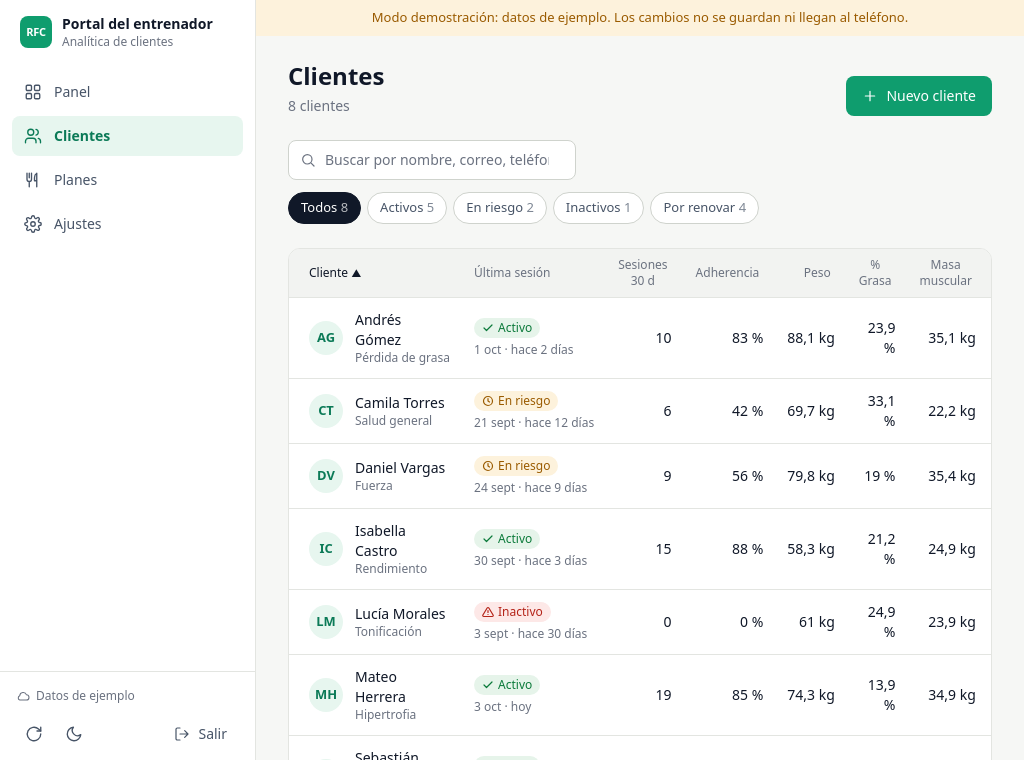
it: portal en modo demo (sin Supabase configurado) › lista, filtra y crea un cliente (queda pendiente para el teléfono)
Expected: the heading "Clientes" is shown, [288, 60, 384, 92]
Click the button "Inactivos 1" at (599, 208), box [553, 192, 644, 224]
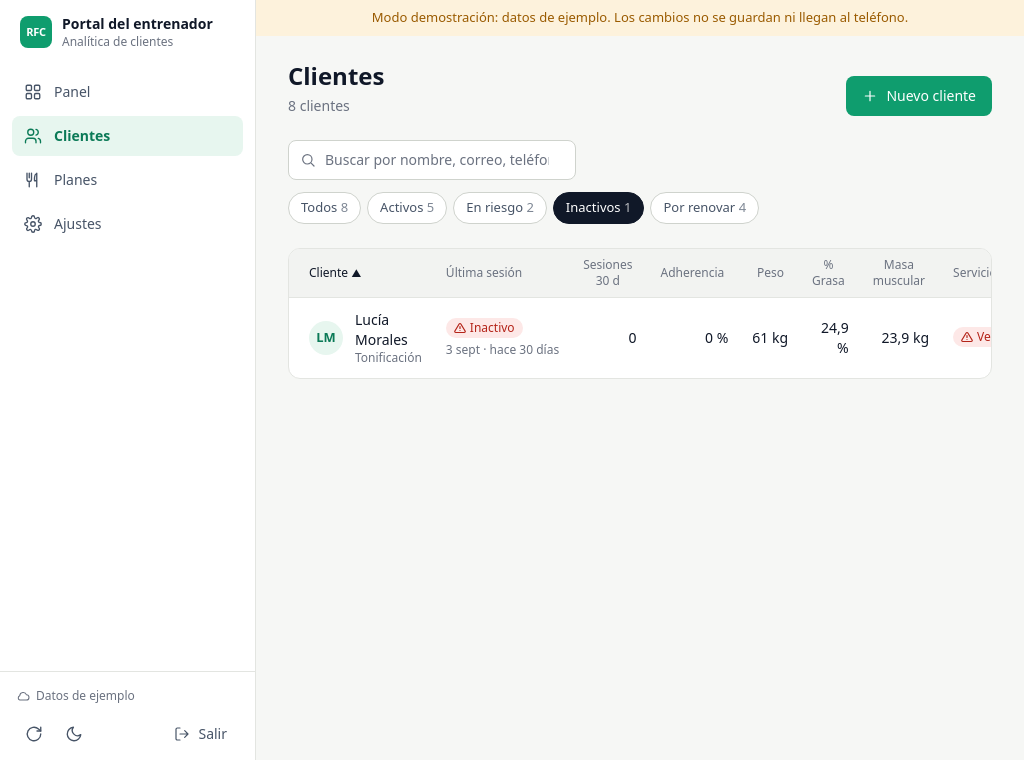
Expected: the link "Lucía Morales" is shown, [355, 310, 408, 348]
Expected: the link "Mateo Herrera" is gone
Click the button "Nuevo cliente" at (919, 96), box [846, 76, 992, 116]
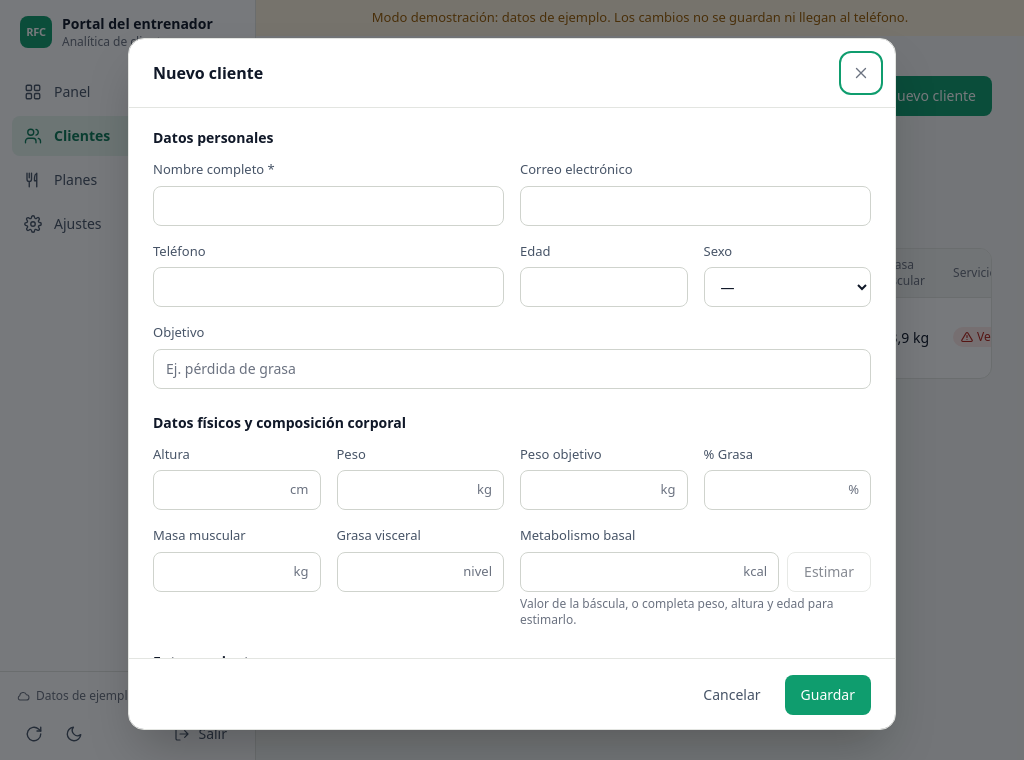
Type "Nueva Clienta" into the field labelled "Nombre completo *" at (328, 206), box [153, 186, 504, 226]
Type "99" into the number field labelled "Grasa visceral" at (420, 572), box [336, 552, 504, 592]
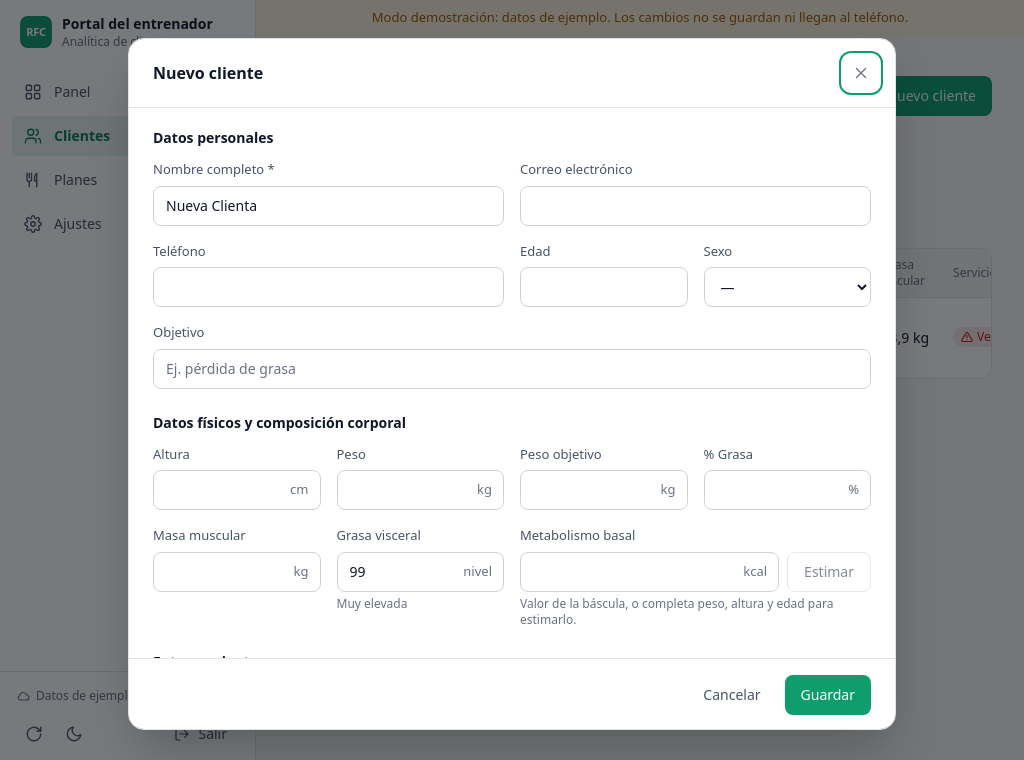
Click the button "Guardar" at (828, 695), box [784, 675, 871, 715]
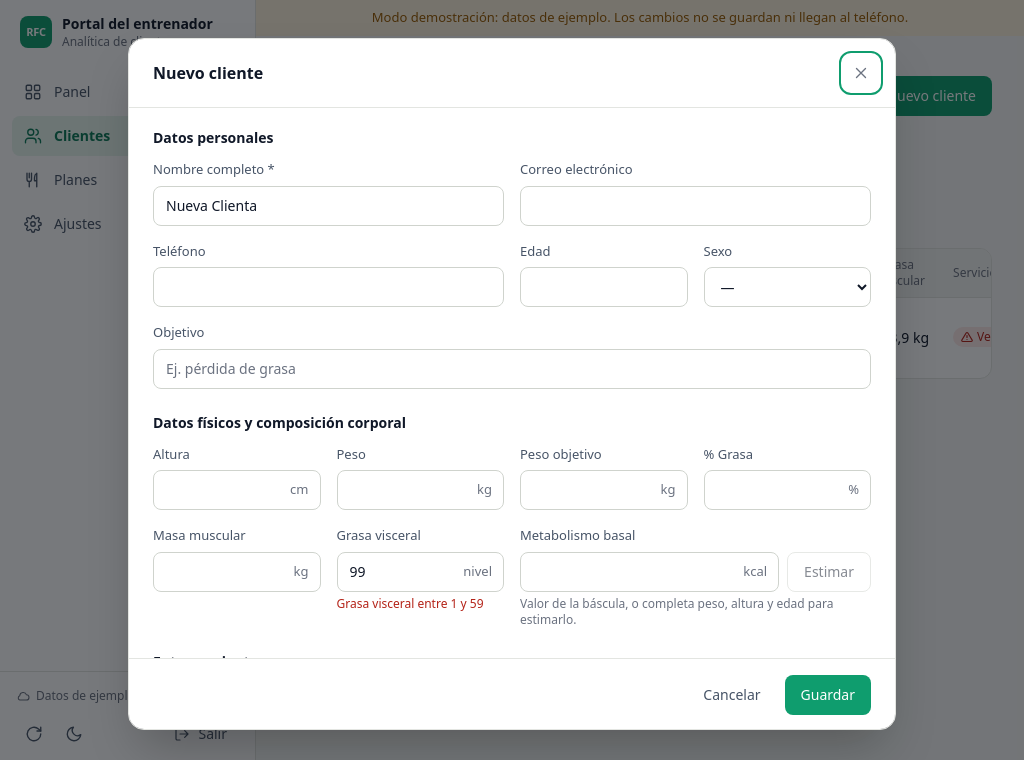
Expected: the text "Grasa visceral entre 1 y 59" is shown, [336, 595, 484, 612]
Replace the text in the number field labelled "Grasa visceral" with "6" at (420, 572), box [336, 552, 504, 592]
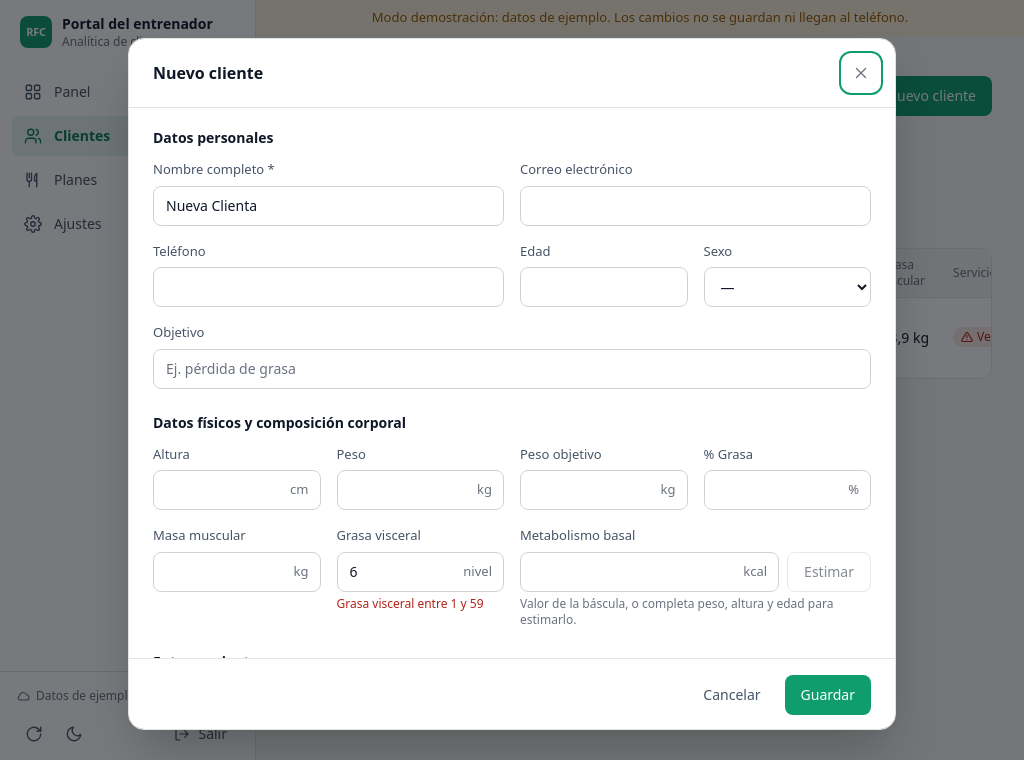
Click the button "Guardar" at (828, 695), box [784, 675, 871, 715]
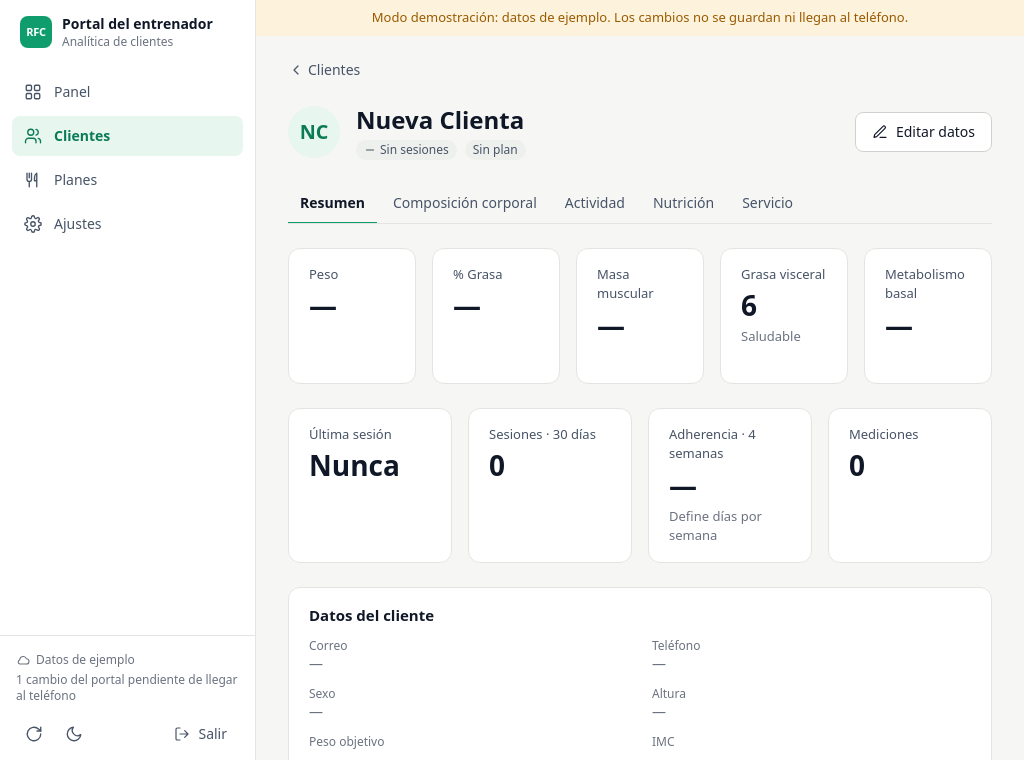
Expected: the heading "Nueva Clienta" is shown, [356, 102, 524, 136]
Expected: the text "1 cambio del portal pendiente de llegar al teléfono" is shown, [16, 672, 239, 704]
